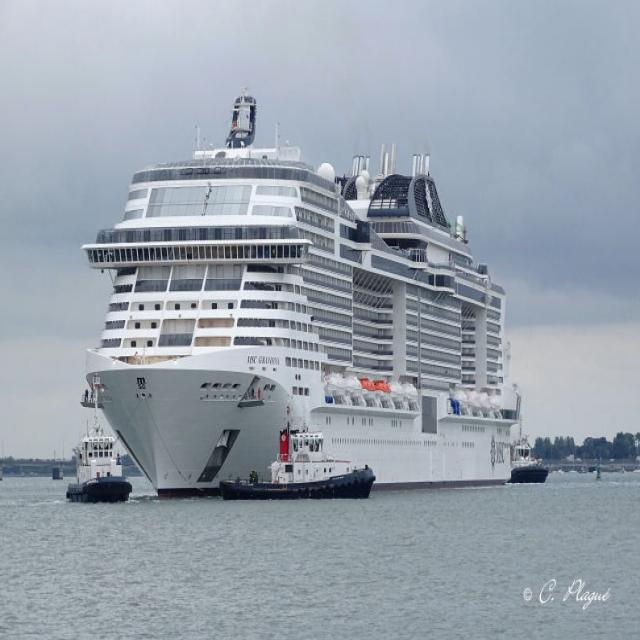cruises: (80, 83, 527, 503)
